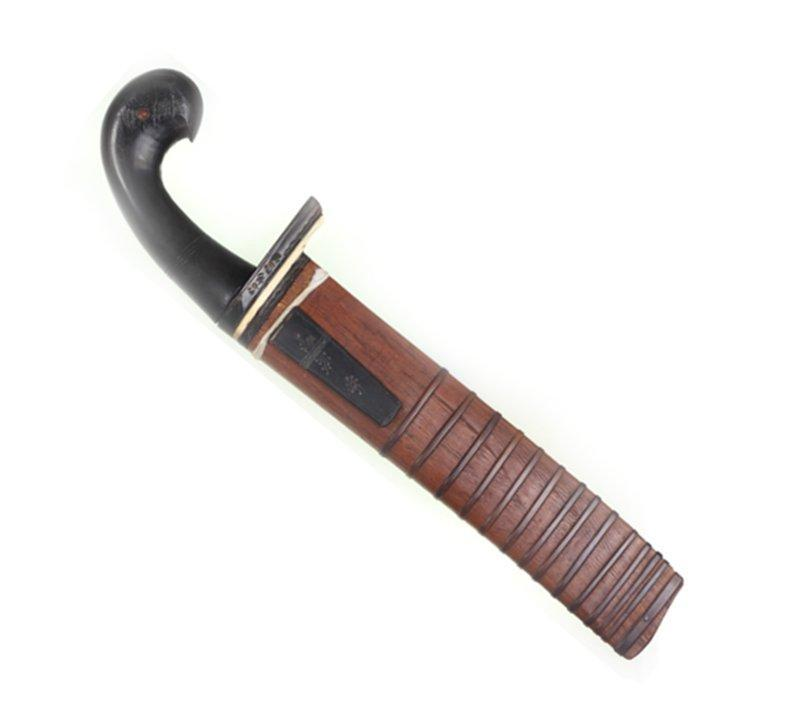facao: (85, 48, 696, 649)
